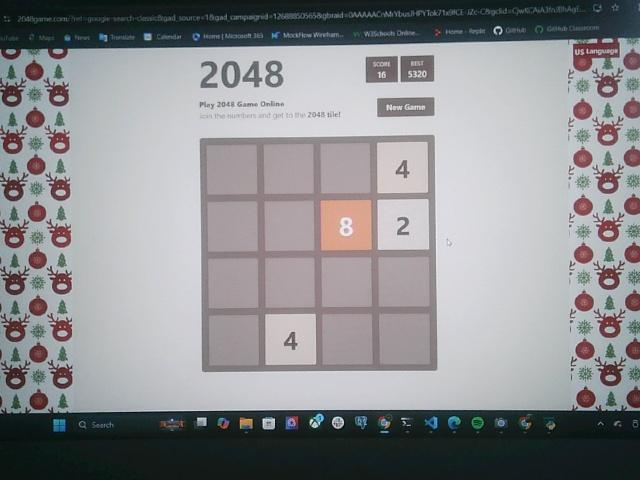best_score_box: (401, 56, 435, 82)
board: (201, 135, 437, 371)
button: (377, 98, 435, 115)
score_box: (365, 56, 398, 83)
tile: (321, 199, 373, 252), (378, 198, 430, 251), (265, 313, 316, 367), (377, 140, 428, 193)
